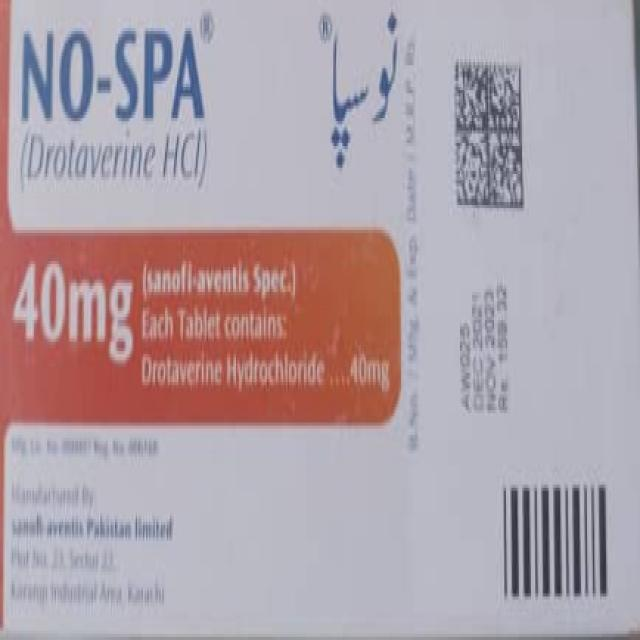drug-name: (18, 26, 205, 120)
